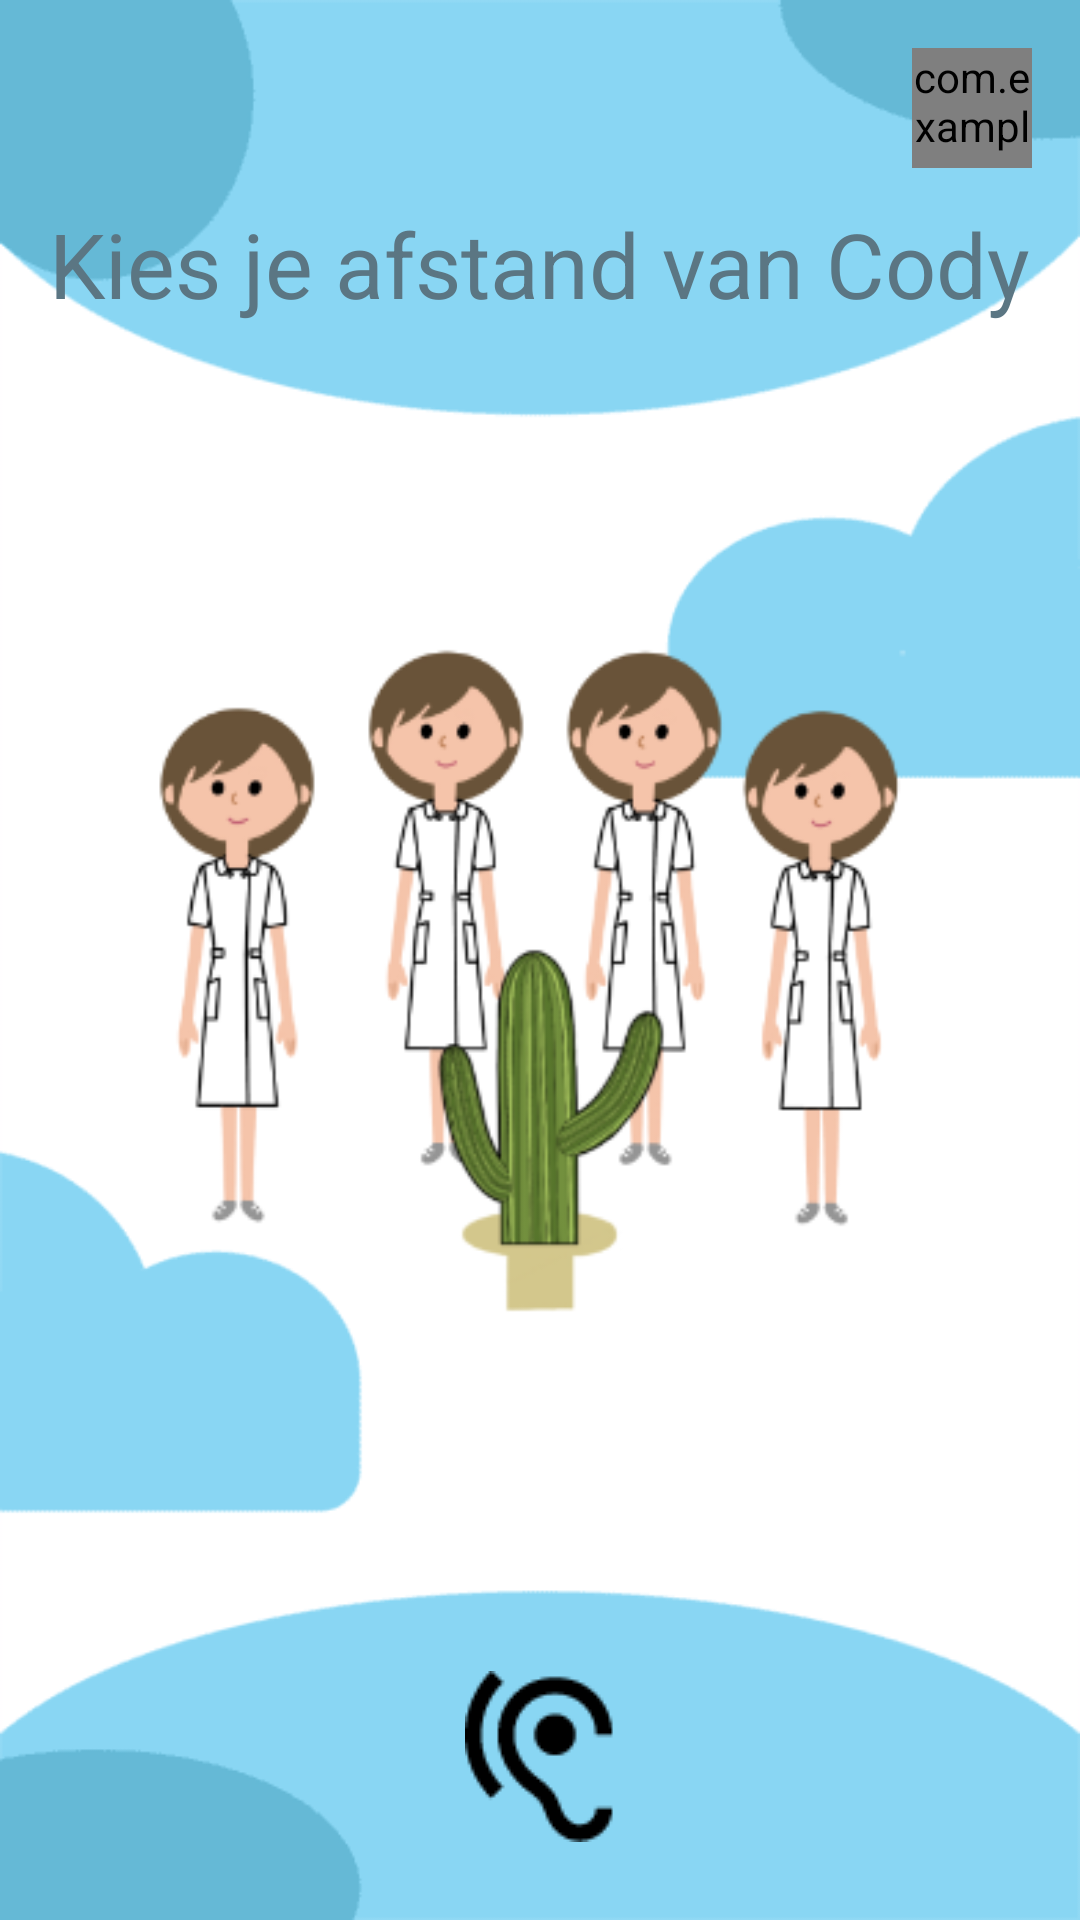

Icons on this 1080w x 1920h Android screen, each with the point to tap as point (x, y):
pictogram oortje: point (539, 1756)
